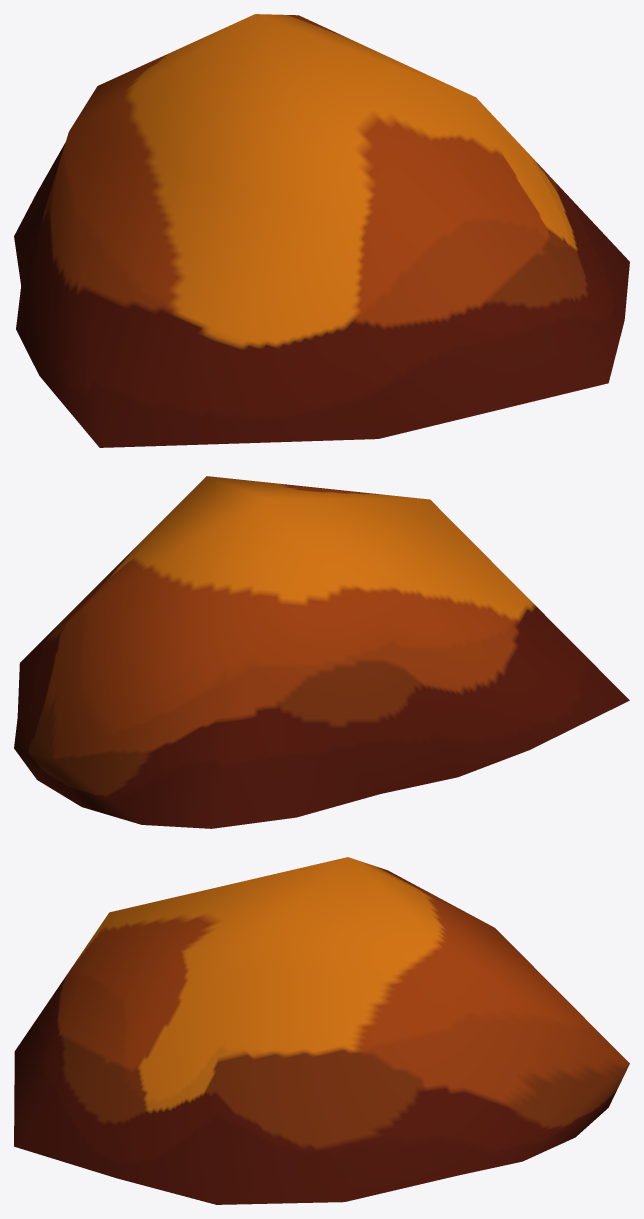
The model's file is Rock 6x 6 1_preview_3DS_simplified.glb.
The picture shows the model from 3 angles, top to bottom: view 1: azimuth 30°, elevation 25°; view 2: azimuth 150°, elevation 25°; view 3: azimuth 270°, elevation 25°; orthographic projection. The views are drawn at different scales.
Parts seen in each view (by area): view 1: Marine Park Empire model; view 2: Marine Park Empire model; view 3: Marine Park Empire model.
Boxes of the visible parts, <box> form: Marine Park Empire model: <box>14,14,629,447</box>; Marine Park Empire model: <box>14,476,629,828</box>; Marine Park Empire model: <box>14,857,629,1204</box>.
Size of the model in its own units: 181 by 77.75 by 193.
Materials: 1 (1 with a texture image).
